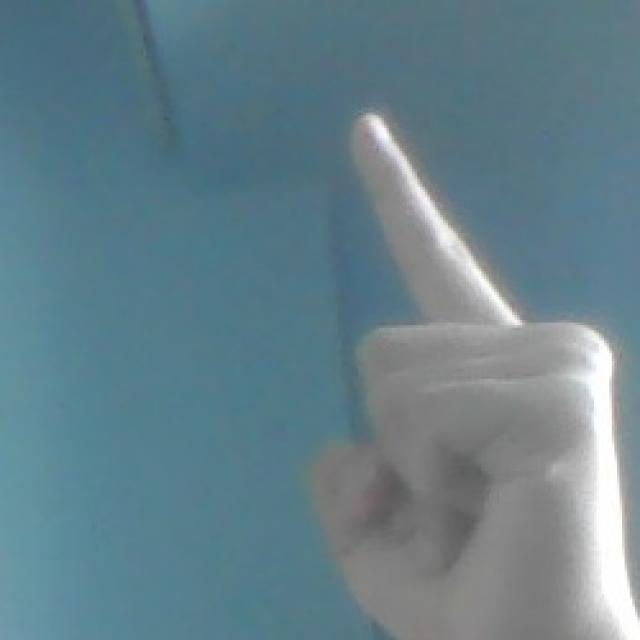Alphabet-I: (287, 106, 640, 640)
